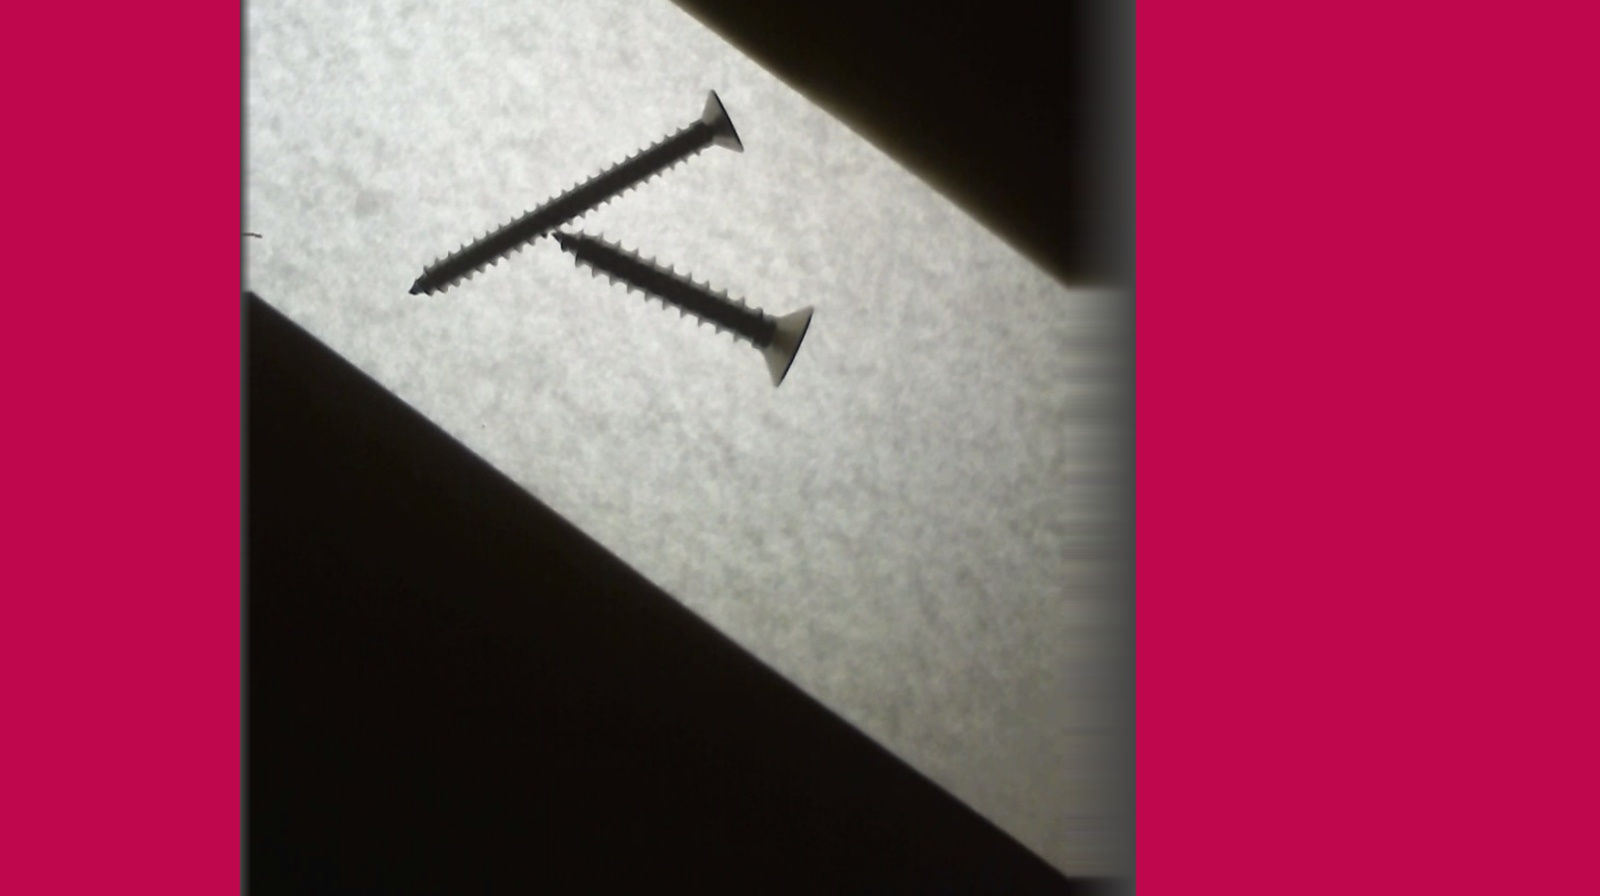S001: (549, 229, 819, 384)
S002: (399, 86, 752, 305)
